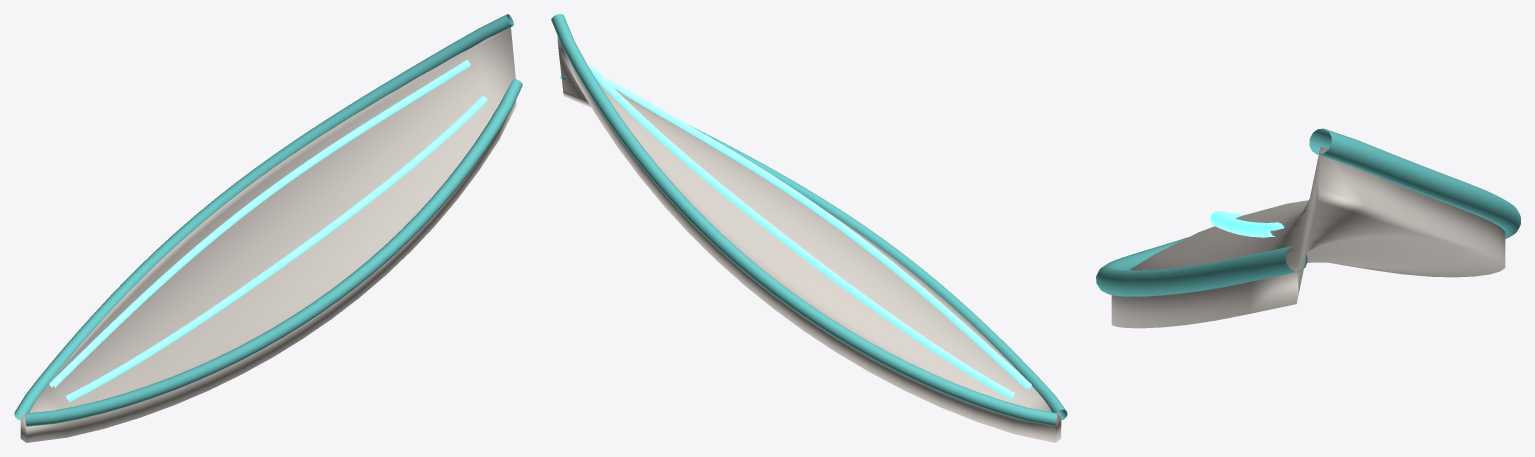
Rendered from inner.glb.
3 renders of one model, left to right at view 1: azimuth 30°, elevation 25°; view 2: azimuth 150°, elevation 25°; view 3: azimuth 270°, elevation 25°, orthographic. The views are drawn at different scales.
Visible parts, largest first — view 1: InnerBlade_DetailedPrototype; view 2: InnerBlade_DetailedPrototype; view 3: InnerBlade_DetailedPrototype.
Boxes of the visible parts, x1=… form: InnerBlade_DetailedPrototype: x1=14, y1=14, x2=522, y2=442; InnerBlade_DetailedPrototype: x1=551, y1=14, x2=1067, y2=442; InnerBlade_DetailedPrototype: x1=1096, y1=128, x2=1520, y2=328.
Bounding box in the file's own units: 2.15 × 1.26 × 0.7962.
